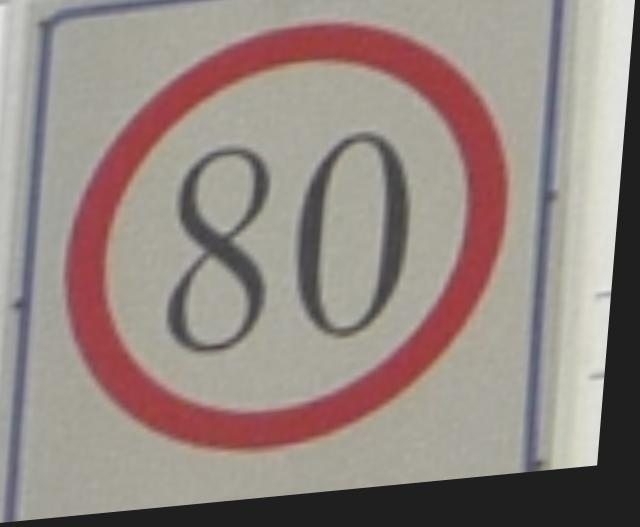limit80: (43, 0, 543, 493)
